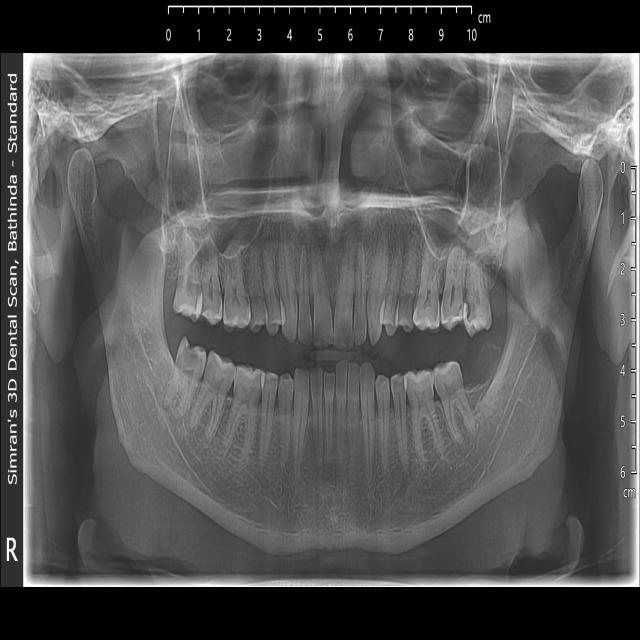Caries: (183, 337, 206, 377), (466, 292, 475, 322)
Mandibular Canal: (122, 312, 249, 518), (403, 331, 548, 511)
maxillary sinus: (168, 88, 283, 258), (390, 95, 501, 265)
